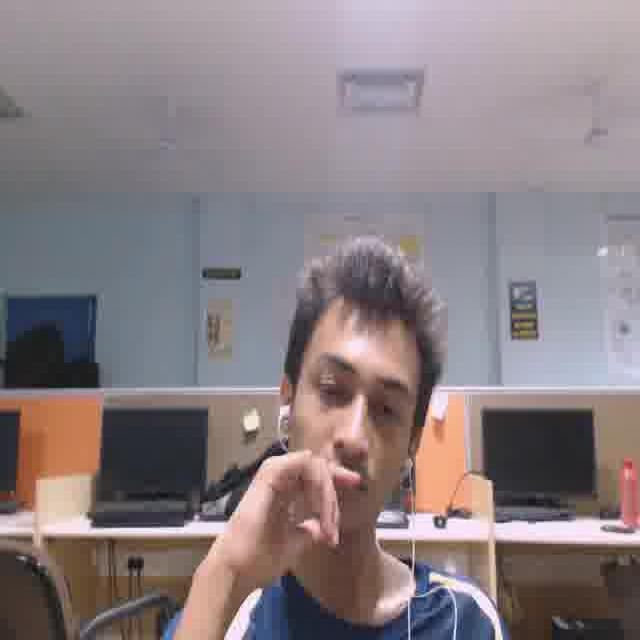Boredom: (288, 309, 408, 527)
